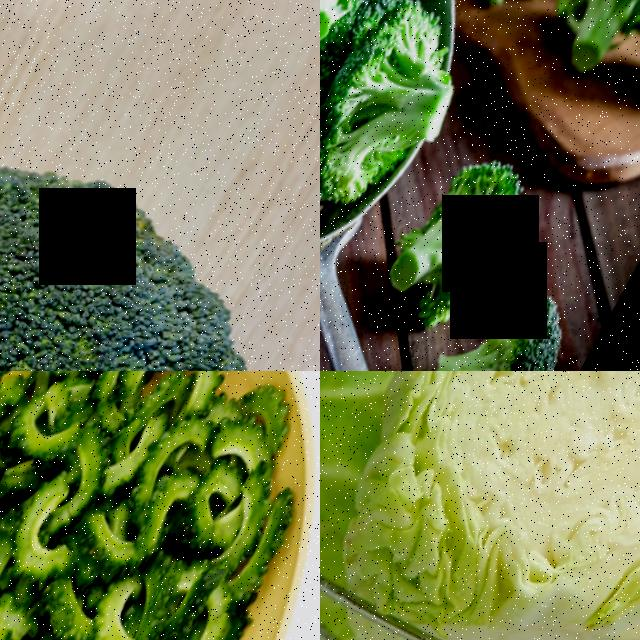broccoli: (0, 74, 319, 371), (370, 133, 568, 353), (320, 0, 486, 231), (419, 272, 619, 371), (515, 0, 640, 109), (443, 0, 591, 37)
cabbage: (320, 371, 640, 640)
